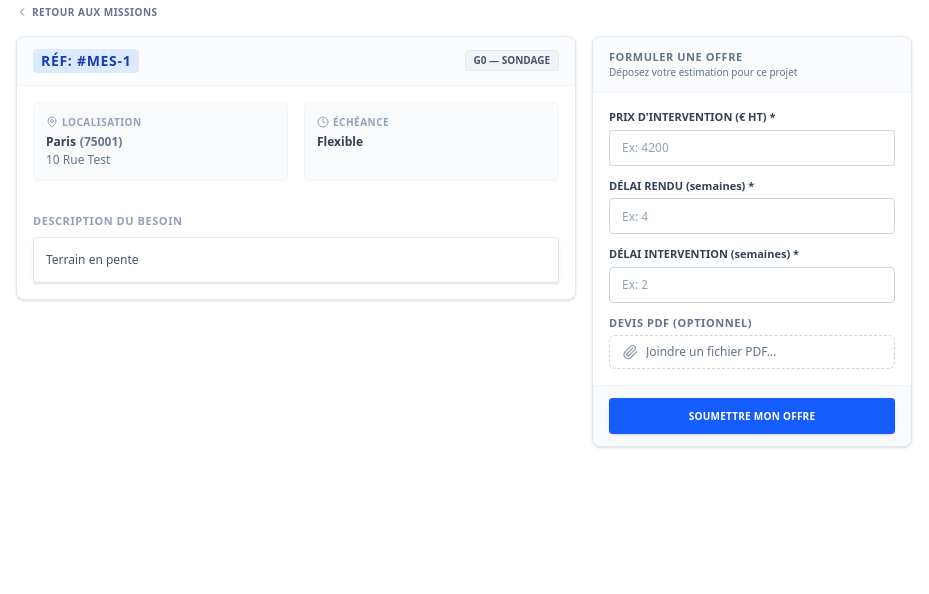
Scenario: BERequestDetail — validation du formulaire de proposition › affiche "Doit être > 0" si le prix est 0 après confirmation
Step 1. Type "0" into the number field with placeholder "Ex: 4200" → (752, 148), box [609,130,895,166]
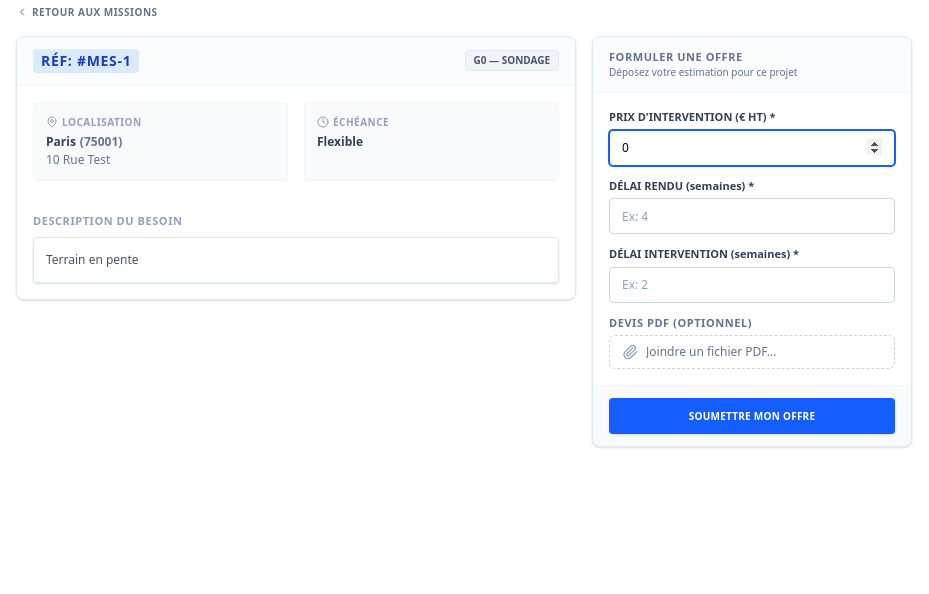
Step 2. Type "4" into the number field with placeholder "Ex: 4" → (752, 216), box [609,198,895,234]
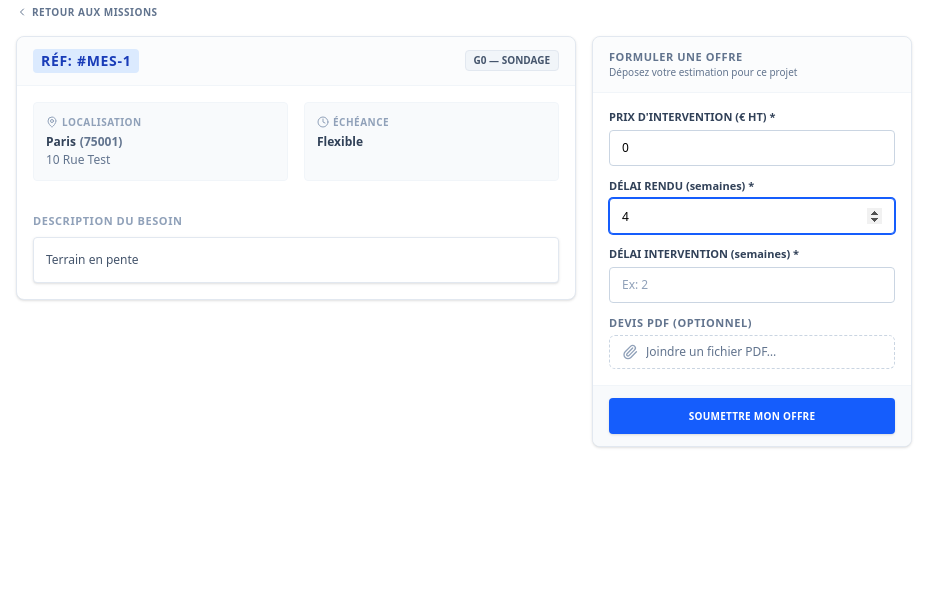
Step 3. Type "2" into the number field with placeholder "Ex: 2" → (752, 284), box [609,266,895,302]
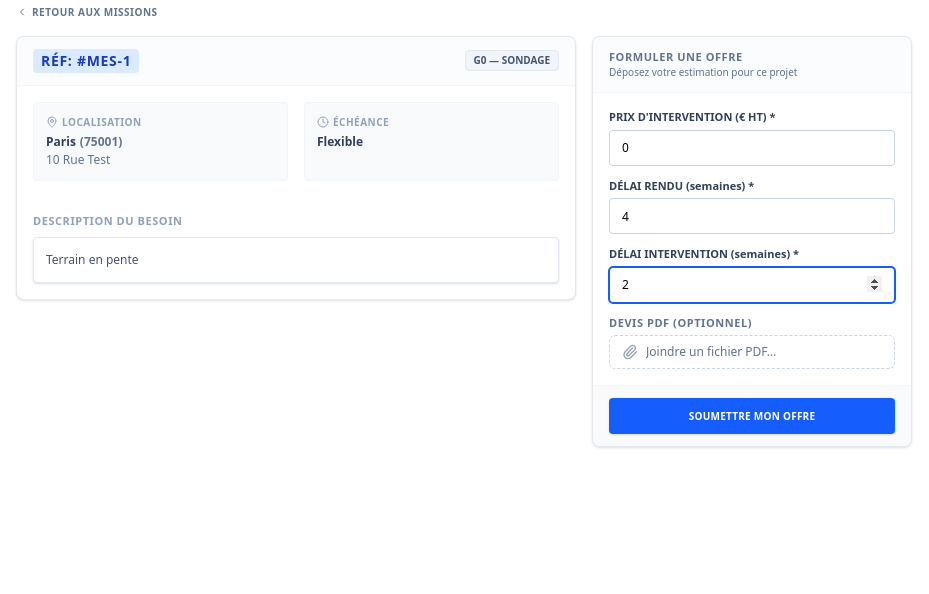
Step 4. Click the button "SOUMETTRE MON OFFRE" → (752, 416), box [609,398,895,434]
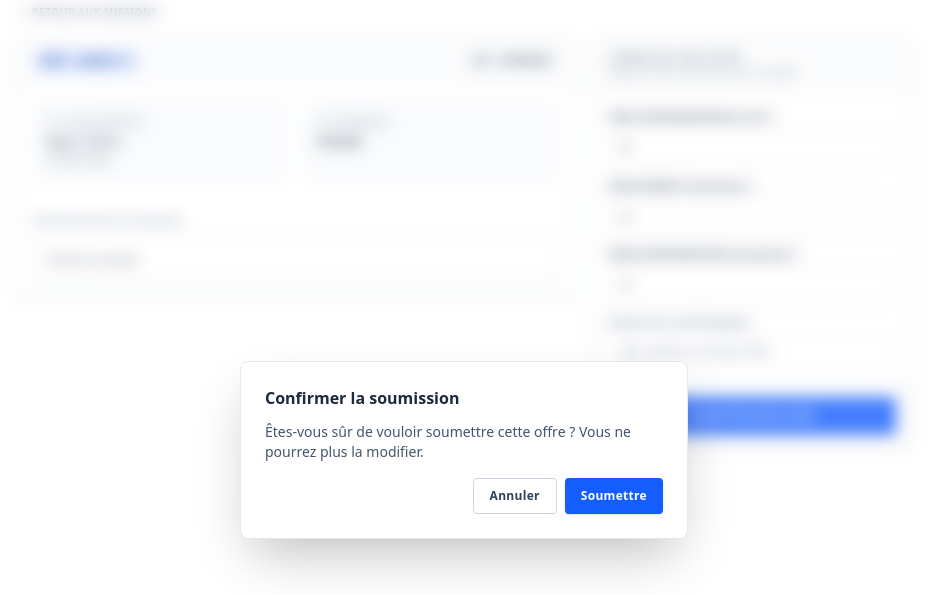
Expected: the heading "Confirmer la soumission" is shown, [265,387,459,409]
Step 5. Click the button "Soumettre" → (614, 496), box [565,478,663,514]
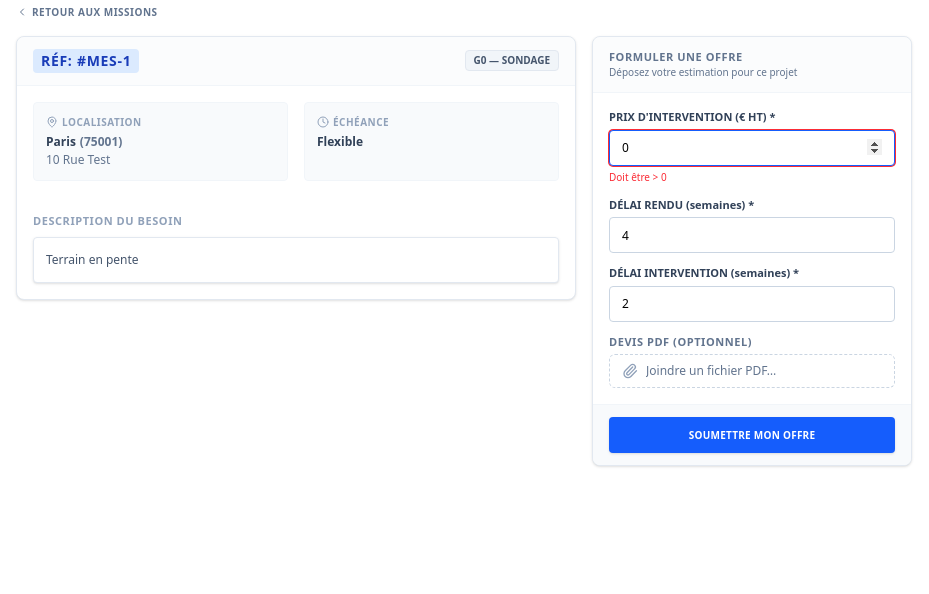
Expected: the text "Doit être > 0" is shown, [609,170,667,184]
